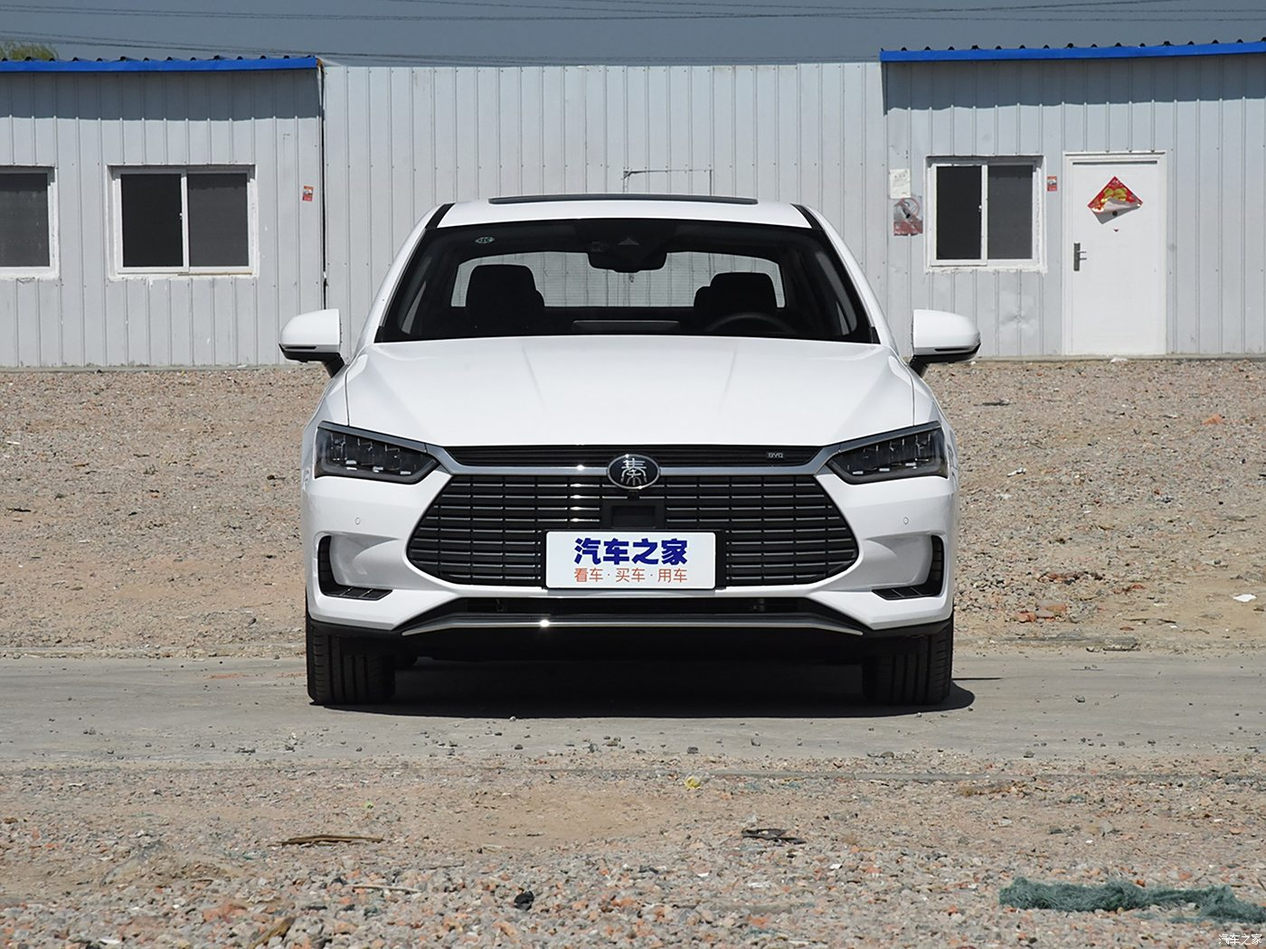BYD Qin: (608, 455, 659, 489)
